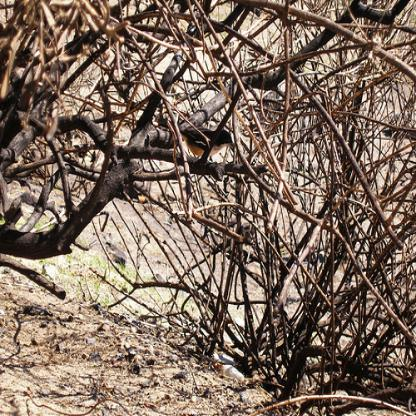bird: (156, 115, 235, 159)
